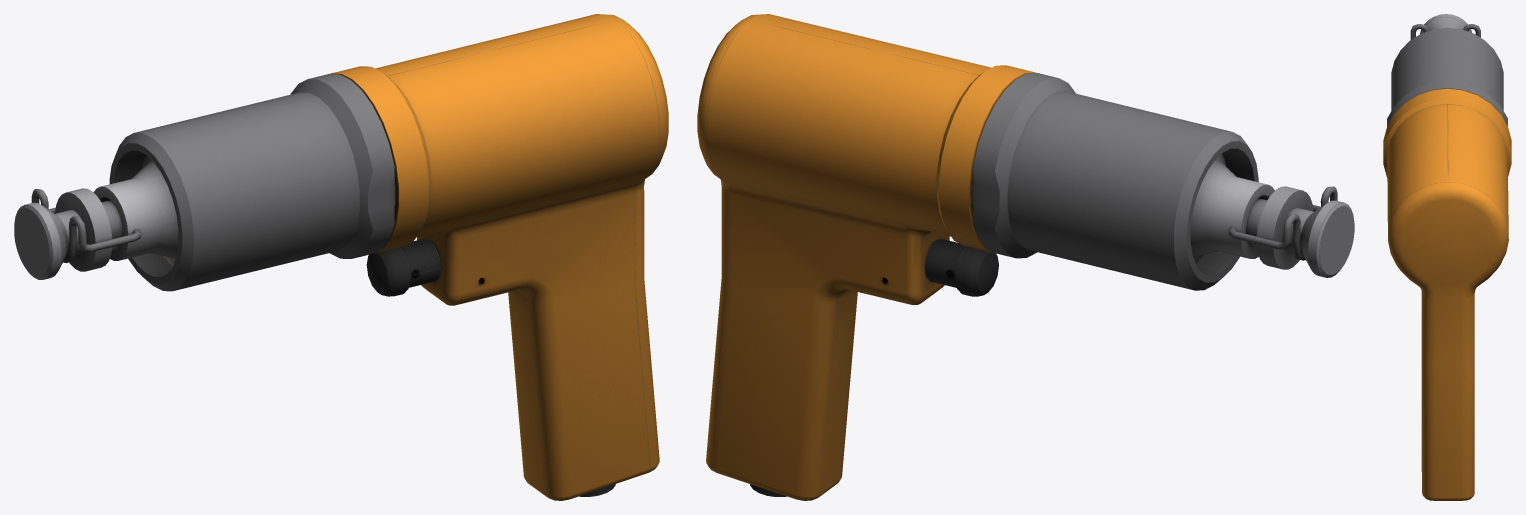
File: PGun.FBX
3 views of the same model, side by side, from view 1: azimuth 30°, elevation 25°; view 2: azimuth 150°, elevation 25°; view 3: azimuth 270°, elevation 25° (orthographic). The views are drawn at different scales.
Parts seen in each view (by area): view 1: PnGun, PnGun1, PnGunButton; view 2: PnGun, PnGun1, PnGunButton; view 3: PnGun, PnGun1.
Part boxes in pixels (x1,y1,x2,y2): PnGun: [31, 14, 668, 500]; PnGun1: [14, 188, 122, 279]; PnGunButton: [366, 238, 440, 296]; PnGun: [697, 14, 1337, 500]; PnGun1: [1246, 186, 1354, 277]; PnGunButton: [925, 238, 998, 296]; PnGun: [1383, 24, 1511, 500]; PnGun1: [1420, 14, 1471, 33].
Bounding box in the file's own units: 189 × 48.67 × 136.
